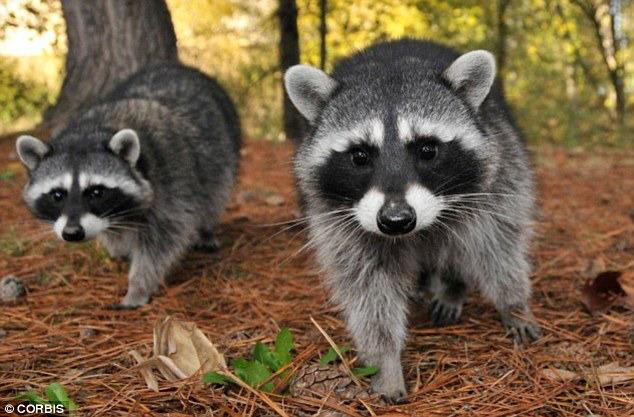raccoon: (273, 26, 562, 409), (5, 48, 252, 319)
